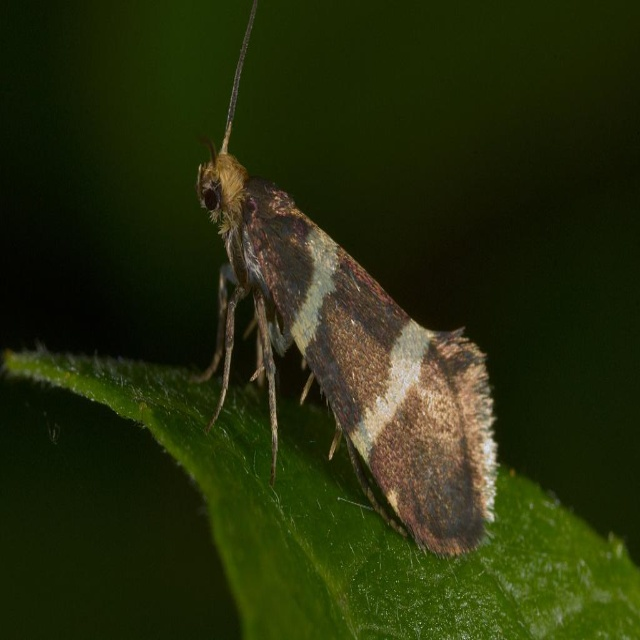Moths and butterflies: (184, 0, 508, 574)
